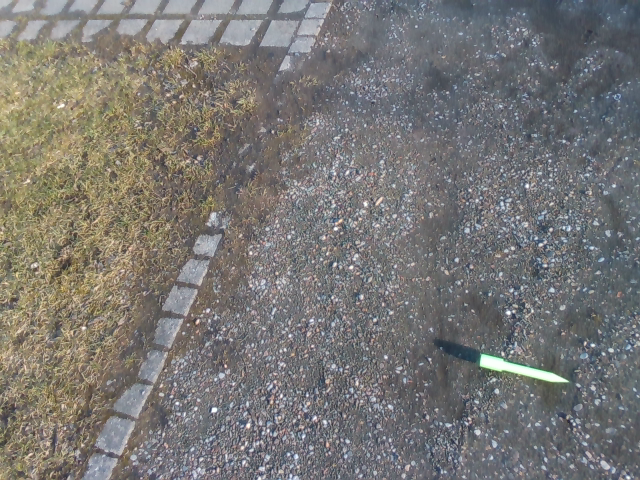Probe: (477, 349, 575, 396)
